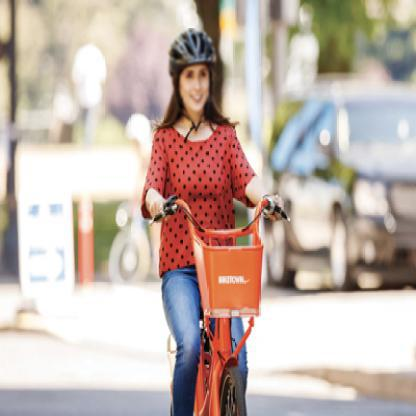Helmet: (163, 24, 224, 121)
